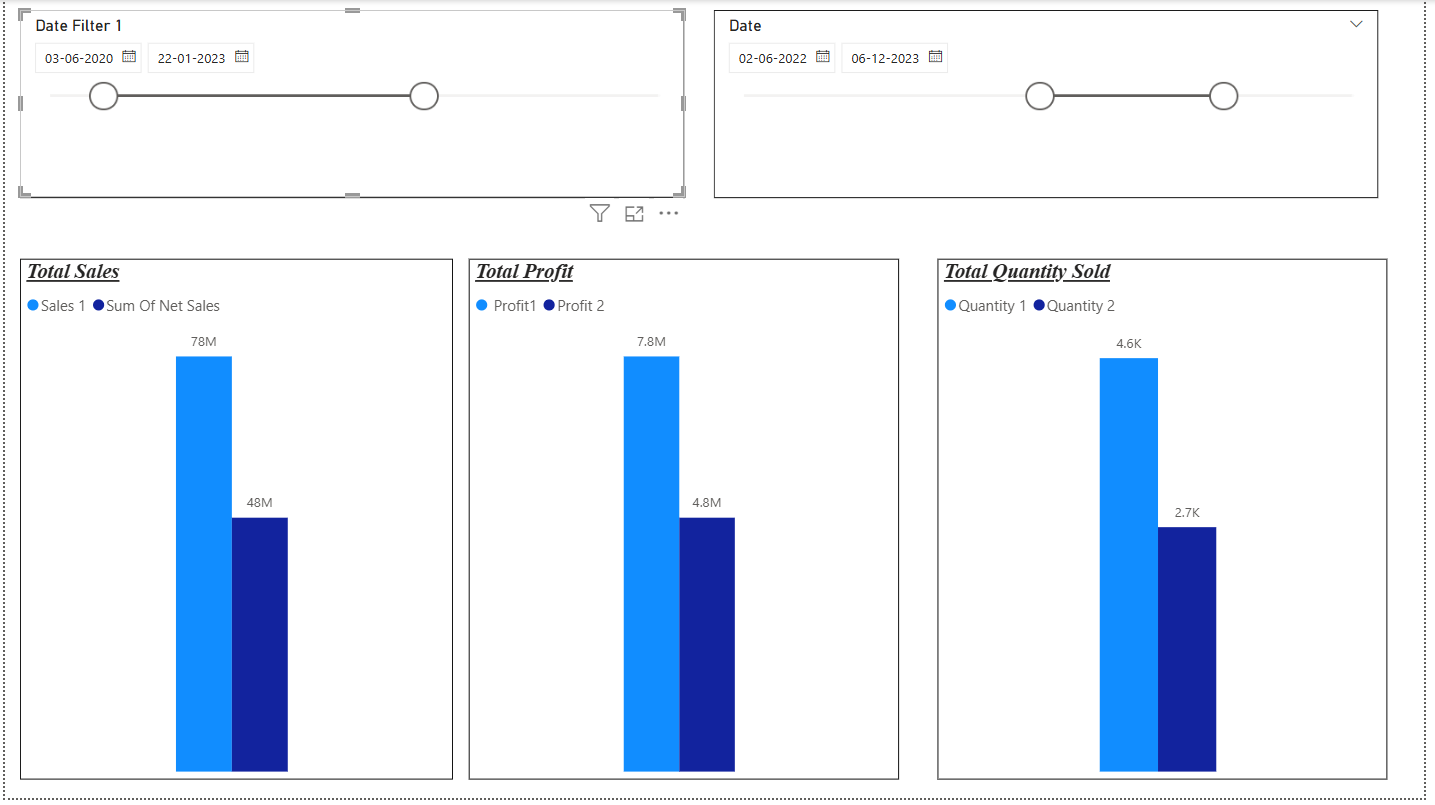

The page's visual inventory and layout, read from the dashboard file:
{"tool":"powerbi","page":{"name":"Req 4","canvas":[1280,720],"ordinal":2},"visuals":[{"type":"slicer","fields":{"Values":["Date Table 1.Date"]},"box":[13.5,8.6,599.2,170],"z":0},{"type":"slicer","fields":{"Values":["Date Table 2.Date"]},"box":[639.5,8.6,599.2,170],"z":1000},{"type":"clusteredColumnChart","title":"Total Sales ","fields":{"Y":["Sum(Fact Table.Net Sales )","Date Table 1.Sum Of Net Sales"]},"box":[13.5,233.6,390.1,469.6],"z":2000},{"type":"clusteredColumnChart","title":"Total Profit","fields":{"Y":["Sum(Fact Table.Profit)","Measures Table.Total Profit"]},"box":[418.2,233.6,387.6,469.6],"z":3000},{"type":"clusteredColumnChart","title":"Total Quantity Sold","fields":{"Y":["Sum(Fact Table.Units Sold)","Measures Table.Quantity sold"]},"box":[841.3,233.6,406,469.6],"z":4000}]}

Visuals, with their boxes in screenshot pixels (x1, y1, x2, y2), scaled from the page's 1280x720 canvas onto the 1435x805 screenshot:
slicer - Date Table 1.Date: x1=15, y1=10, x2=687, y2=200
slicer - Date Table 2.Date: x1=717, y1=10, x2=1389, y2=200
"Total Sales " clusteredColumnChart: x1=15, y1=261, x2=452, y2=786
"Total Profit" clusteredColumnChart: x1=469, y1=261, x2=903, y2=786
"Total Quantity Sold" clusteredColumnChart: x1=943, y1=261, x2=1398, y2=786
